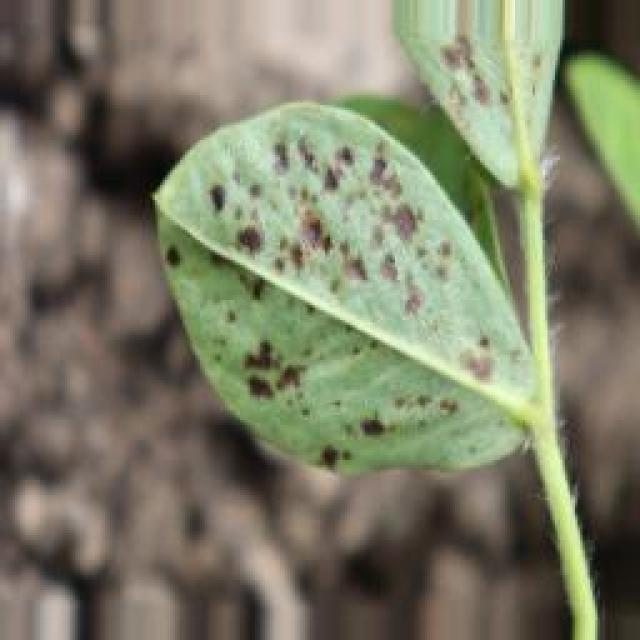Whitefly: (134, 96, 530, 532), (344, 0, 553, 182)
